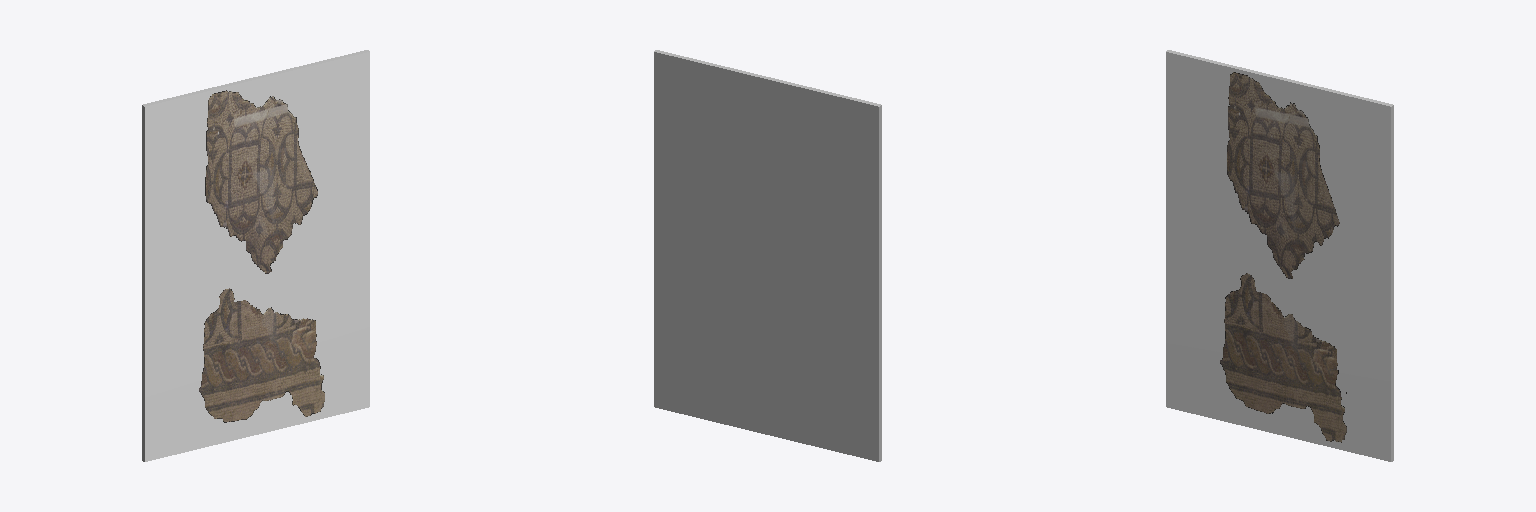
The picture shows the model from 3 angles: view 1: azimuth 30°, elevation 25°; view 2: azimuth 150°, elevation 25°; view 3: azimuth 330°, elevation 25°; orthographic projection.
Visible parts, largest first — view 1: SketchUp.001_ID10, SketchUp_ID2; view 2: SketchUp_ID2; view 3: SketchUp.001_ID10, SketchUp_ID2.
Boxes of the visible parts, <box> form: SketchUp.001_ID10: <box>145,52,369,461</box>; SketchUp_ID2: <box>142,50,369,461</box>; SketchUp_ID2: <box>654,50,881,461</box>; SketchUp.001_ID10: <box>1166,52,1390,461</box>; SketchUp_ID2: <box>1166,50,1393,461</box>.
Size of the model in its own units: 188 by 283 by 3.94.
2 materials, 1 textured.